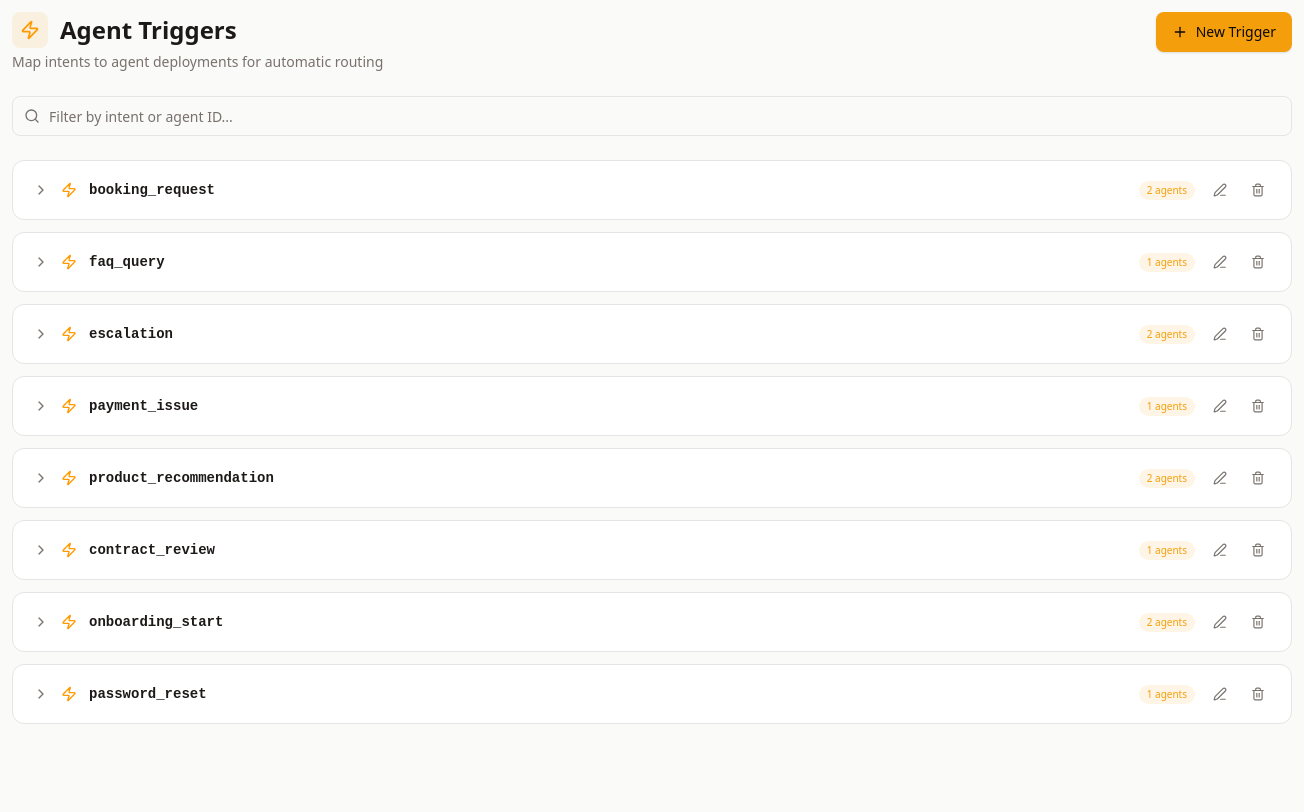
Test: TriggersPage › shows no results empty state when search matches nothing
The image size is (1304, 812).
Type "zzzzzznonexistent" into the field with test id "trigger-search" at x=652, y=116, box [12,96,1292,136]
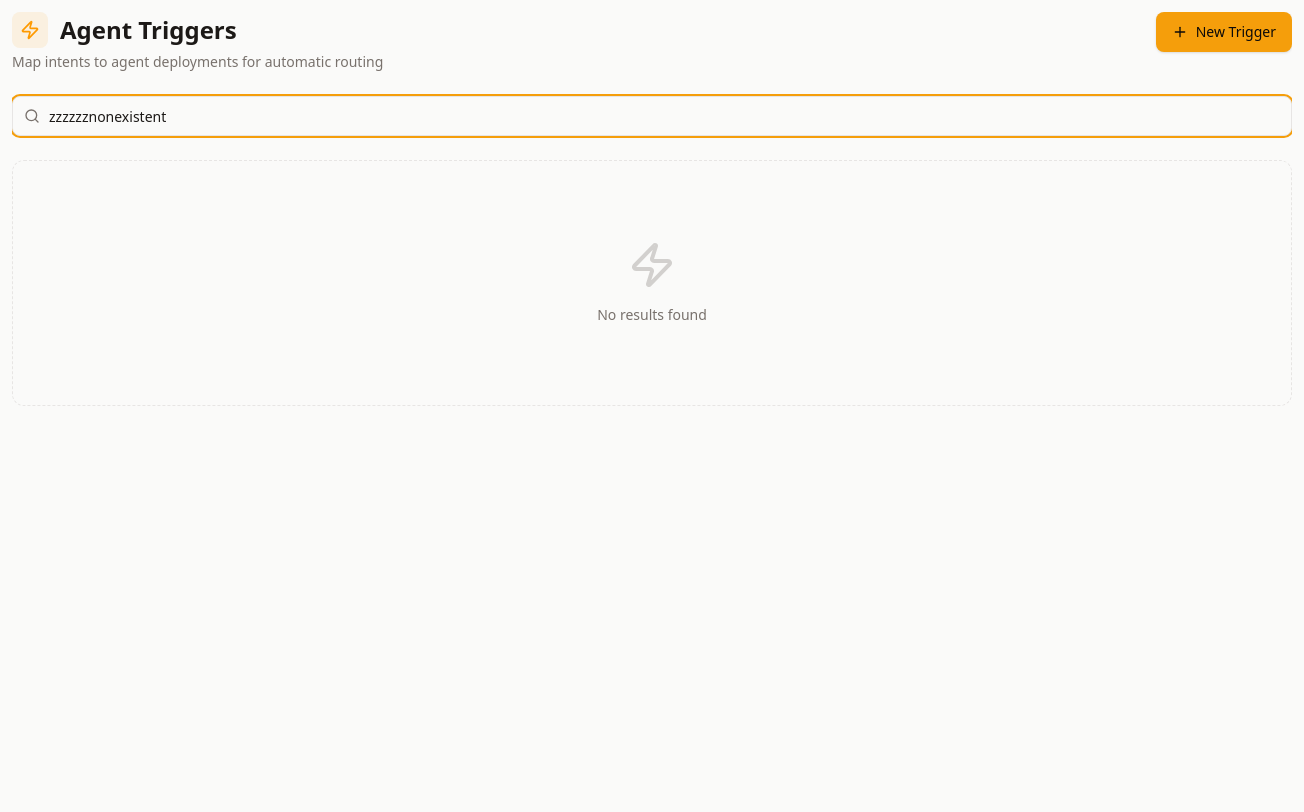
Expected: the text "No results found" is shown, [597,305,707,325]
